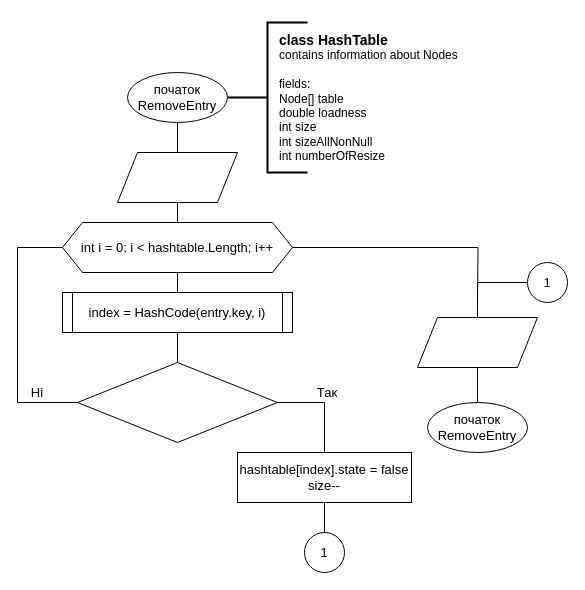
The diagram is 585 pixels wide and 590 high, and some of its shapes have lost their labels. The centre of each missing label's shape, as x and y in pixels:
"hashtable" goes at pixel 477 342.
"hashtable[index].entry.key == key" goes at pixel 177 402.
"key hashtable" goes at pixel 177 177.
